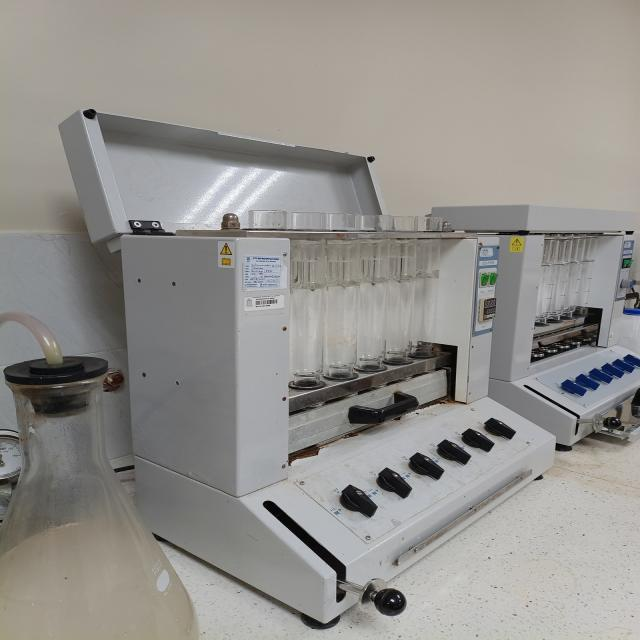Analizador de Fibra Cruda y Fracciones: (60, 110, 639, 628)
